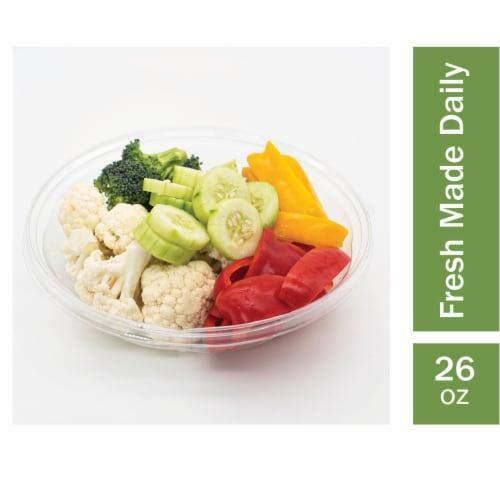bell pepper: (245, 150, 346, 258)
cauliflower: (54, 195, 206, 339)
cucumber: (184, 161, 283, 253)
